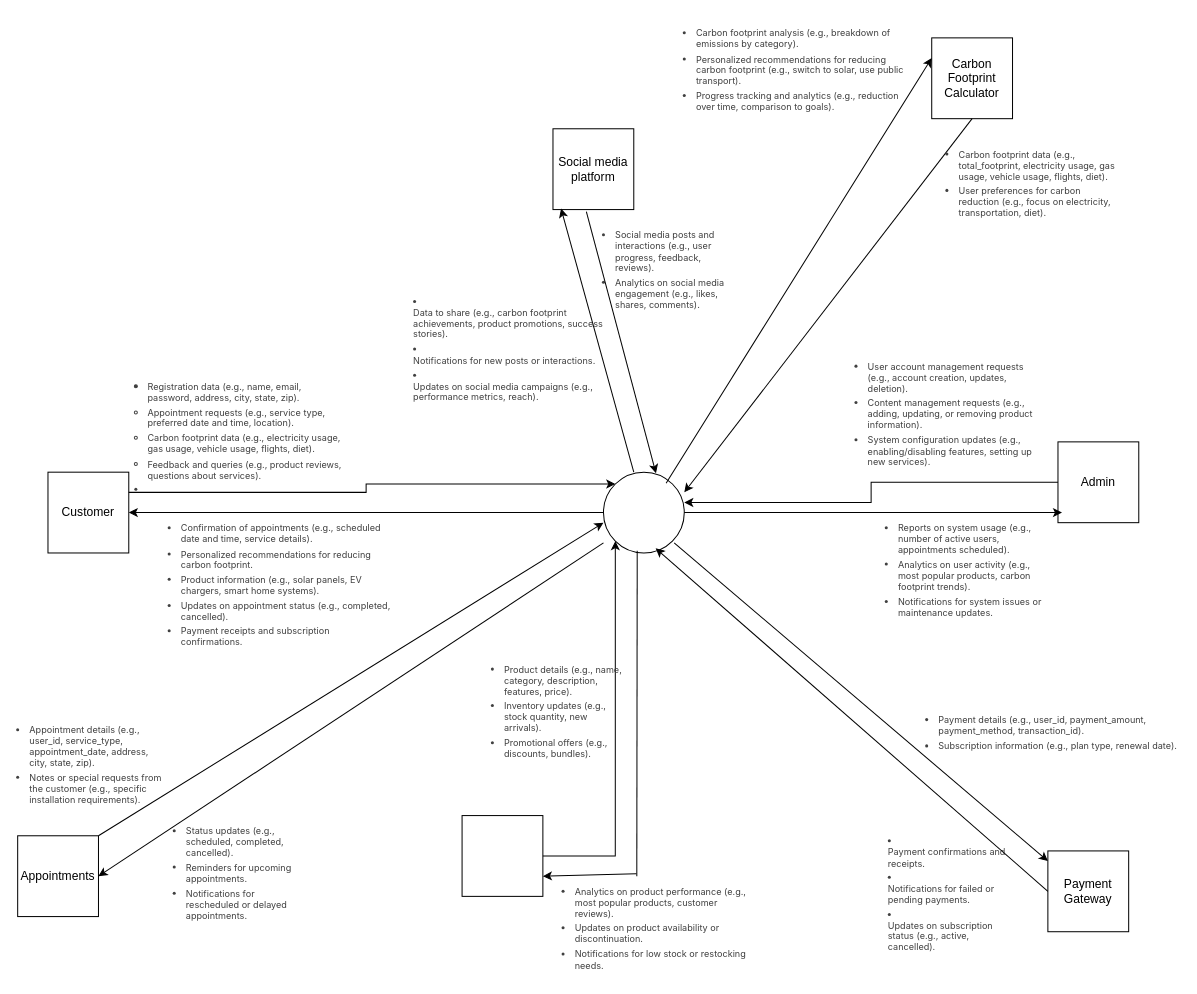
The diagram is 1197 pixels wide and 994 high, and some of its shapes have lost their labels. The centre of each missing label's shape, as x and y in pixels:
Products: point 502,855
Rolsa Technology: point 643,512
